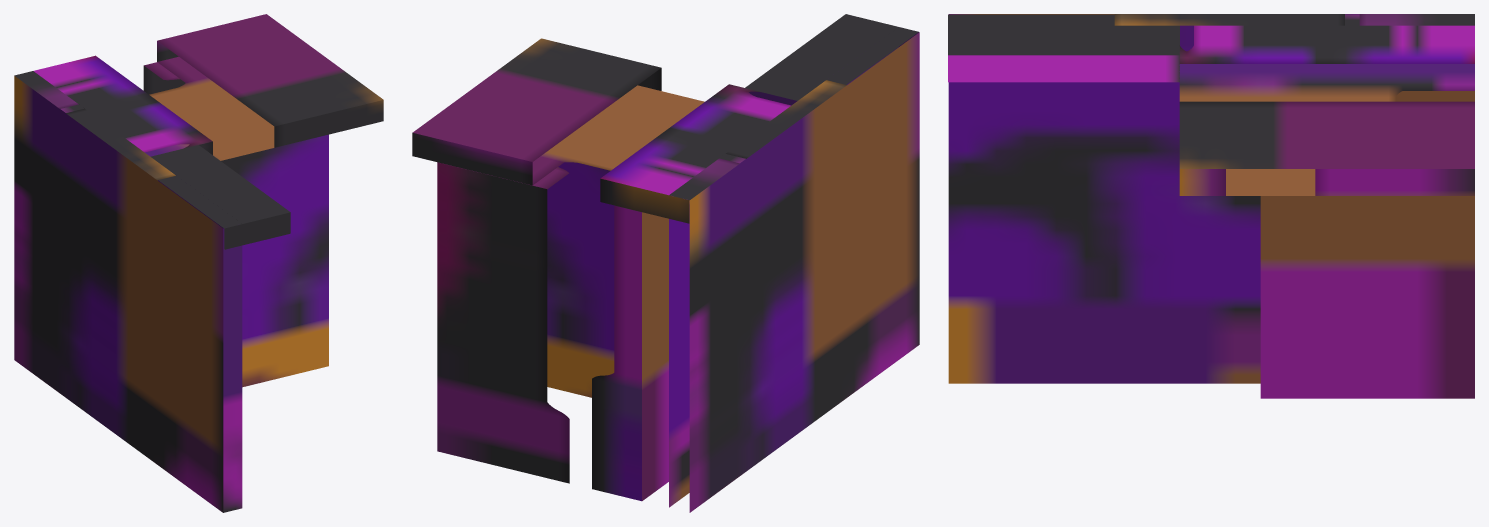
The model's file is section-0.obj.
The picture shows the model from 3 angles, left to right: view 1: azimuth 30°, elevation 25°; view 2: azimuth 150°, elevation 25°; view 3: azimuth 270°, elevation 25°; orthographic projection. The views are drawn at different scales.
Bounding box in the file's own units: 0.7863 × 0.8468 × 1.13.
